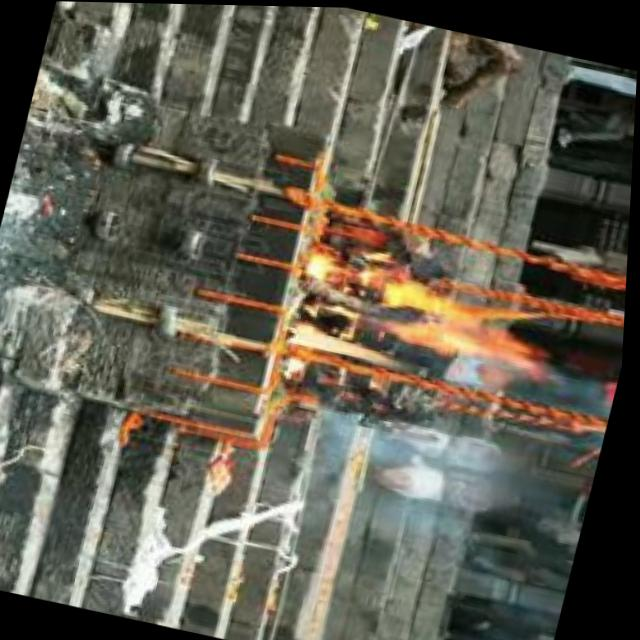Fire: (278, 253, 566, 415)
